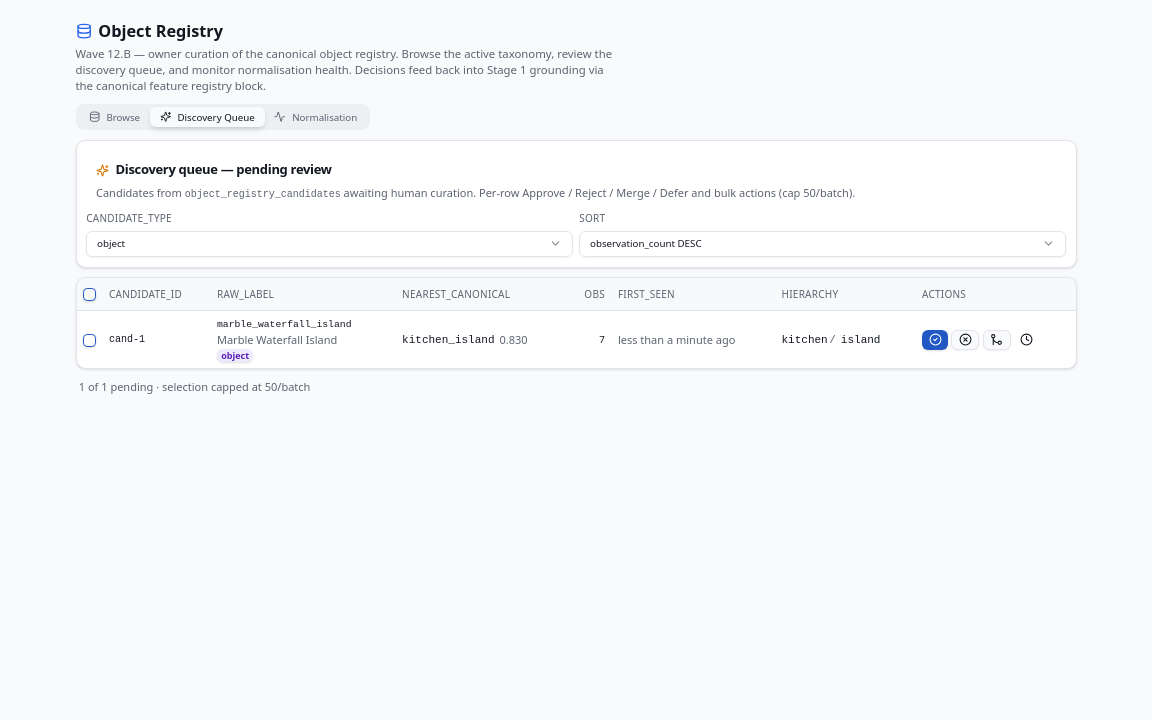
it: Discovery-queue tab › opening merge dialog from the per-row action selects that candidate
Click the button with test id "merge-button-cand-1" at (996, 340), box [982,330,1010,350]
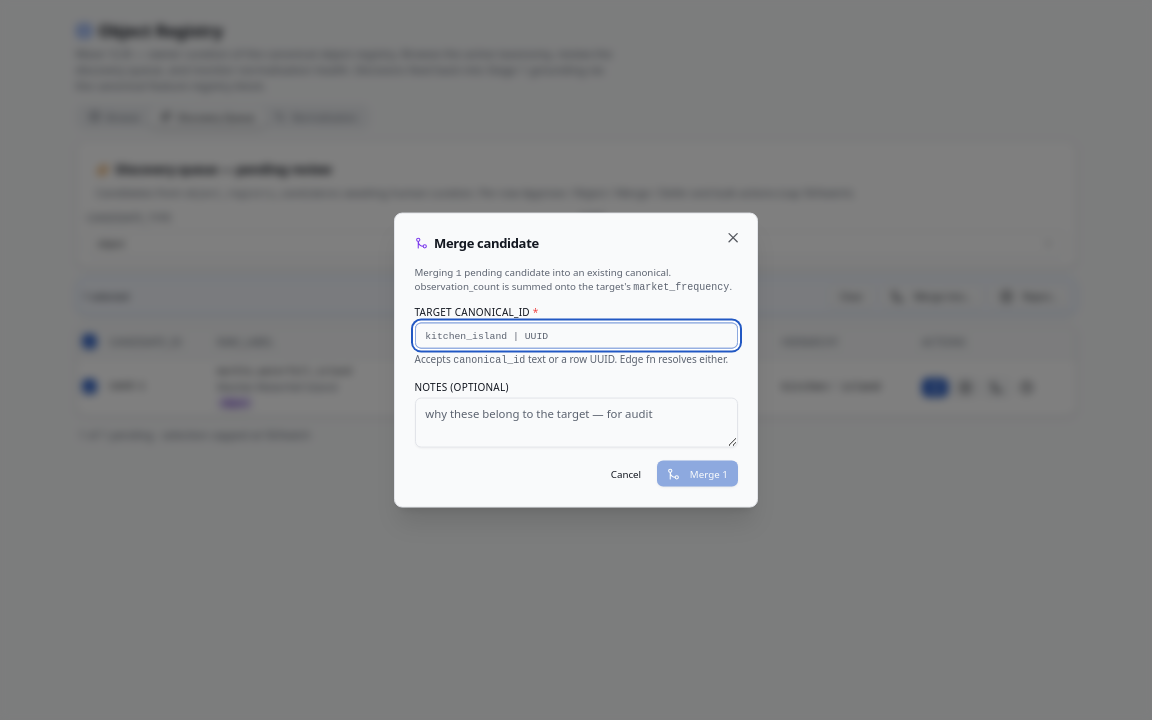
Now the field with test id "merge-target-input" is shown, box [414,323,738,349]
Now the button with test id "merge-submit-button" reads "Merge 1", box [657,461,738,487]
